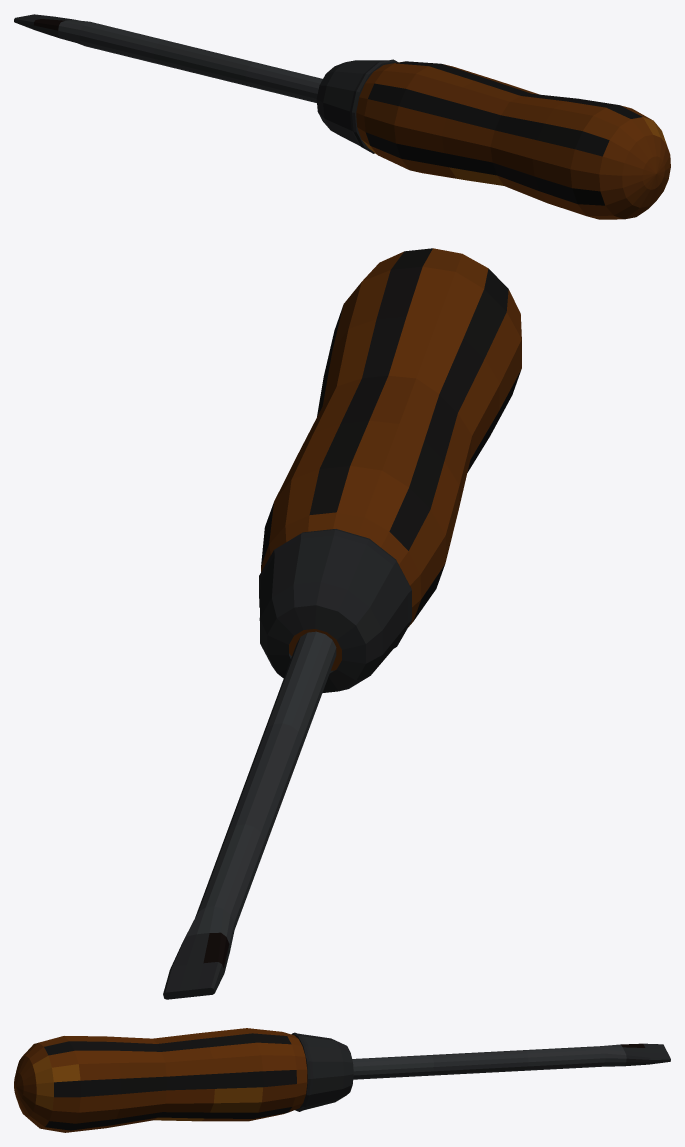
The model's file is screwdriver.fbx.
The picture shows the model from 3 angles, top to bottom: view 1: azimuth 30°, elevation 25°; view 2: azimuth 150°, elevation 25°; view 3: azimuth 270°, elevation 25°; orthographic projection. The views are drawn at different scales.
Visible parts, largest first — view 1: VintageFlatheadScrewdriver; view 2: VintageFlatheadScrewdriver; view 3: VintageFlatheadScrewdriver.
Boxes of the visible parts, left/top/right/bottom form: VintageFlatheadScrewdriver: left=14, top=14, right=670, bottom=219; VintageFlatheadScrewdriver: left=163, top=248, right=521, bottom=999; VintageFlatheadScrewdriver: left=14, top=1028, right=670, bottom=1132.
Size of the model in its own units: 8.64 by 3.68 by 20.91.
